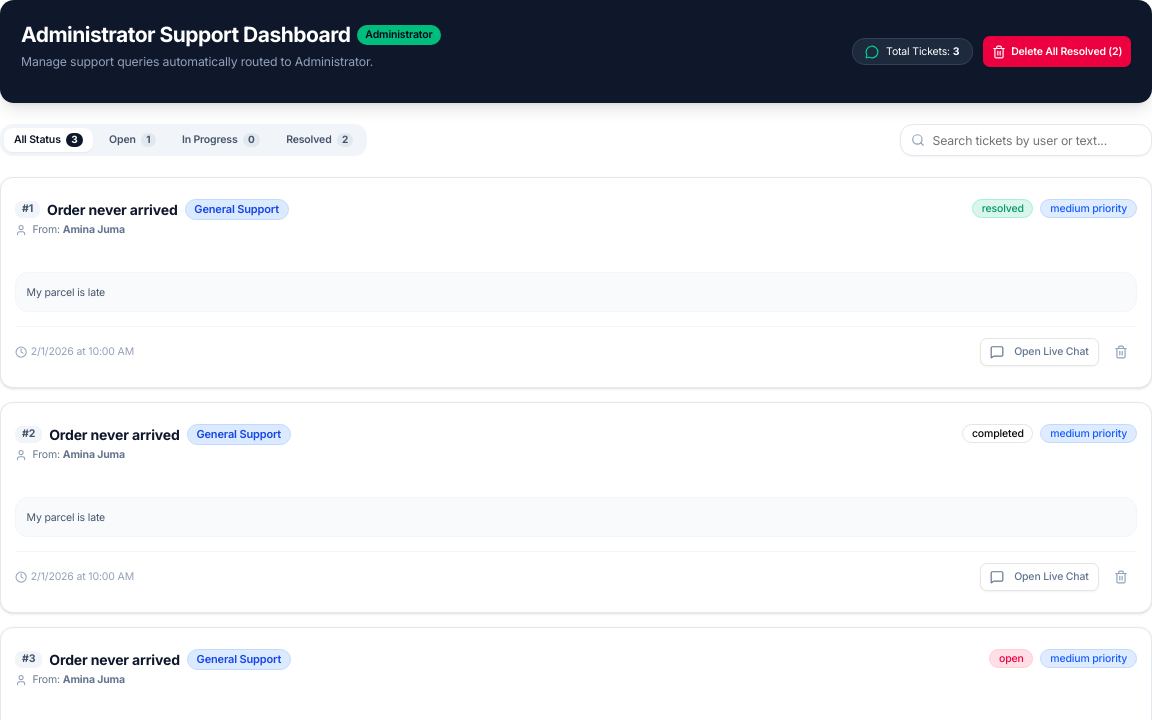
Test: SupportTicketsTab bulk delete › asks for confirmation and warns the action cannot be undone
Click the button "Delete All Resolved (2)" at (1057, 52), box x1=983 y1=36 x2=1131 y2=67
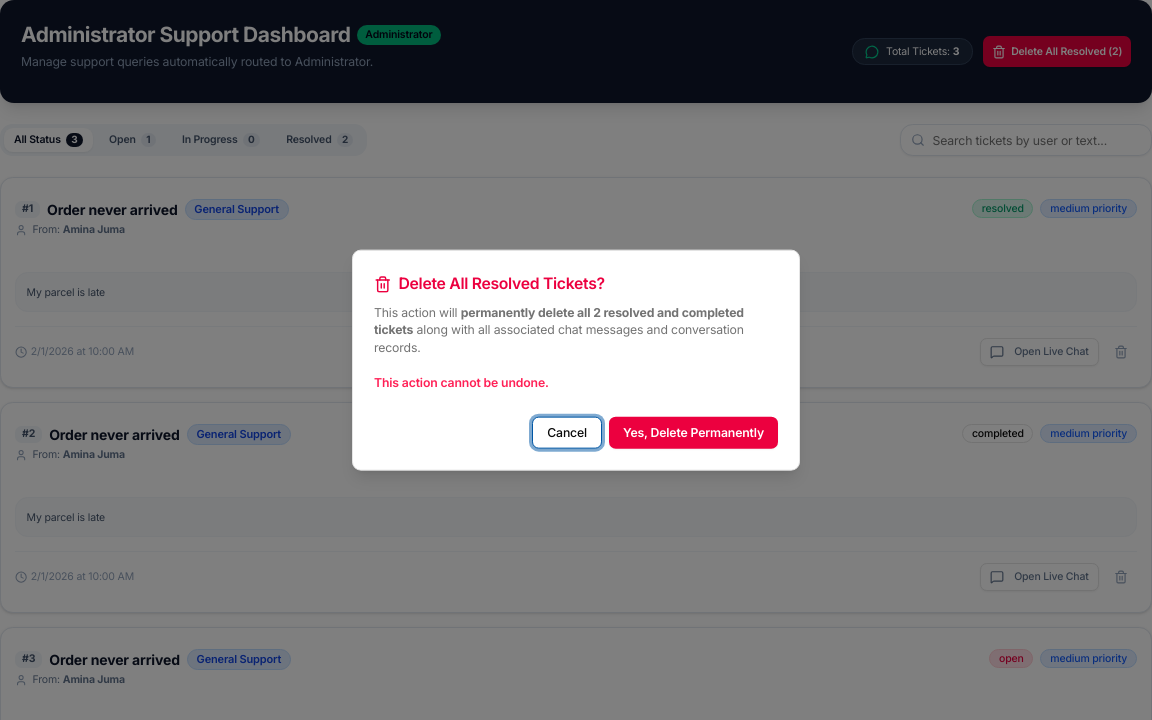
Expected: the text "This action cannot be undone." is shown, x1=374 y1=374 x2=549 y2=389
